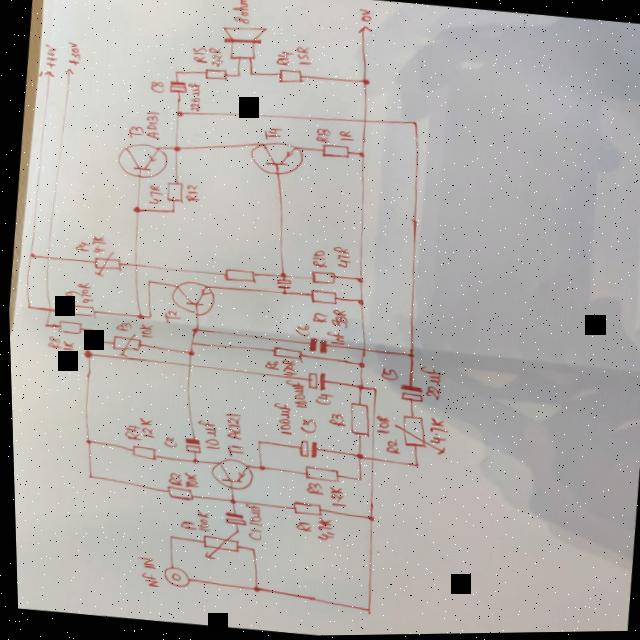capacitor: (394, 383, 422, 405), (293, 439, 316, 459), (304, 337, 327, 356), (177, 436, 201, 454), (303, 371, 324, 391), (219, 510, 245, 526), (166, 80, 186, 95), (273, 277, 290, 291)
crossover: (181, 360, 194, 369), (358, 116, 369, 125), (129, 260, 137, 268), (43, 305, 52, 312), (356, 346, 365, 353), (42, 253, 50, 260), (365, 455, 373, 462)
junction: (128, 204, 140, 216), (79, 349, 92, 360), (223, 497, 234, 507), (350, 453, 361, 462), (170, 144, 181, 153), (352, 275, 363, 284), (172, 109, 183, 118), (351, 297, 362, 306), (276, 270, 286, 279), (246, 585, 257, 593), (352, 384, 363, 392), (358, 607, 369, 615), (252, 465, 264, 472), (353, 361, 363, 369), (187, 326, 197, 334), (362, 515, 372, 523), (25, 251, 35, 259), (132, 312, 142, 320), (358, 78, 369, 85), (185, 457, 196, 464), (276, 290, 287, 297), (183, 349, 193, 356), (80, 438, 90, 445), (354, 151, 364, 158), (161, 534, 171, 541), (407, 462, 417, 469), (402, 352, 412, 359), (184, 339, 194, 346), (243, 546, 252, 553), (245, 71, 254, 78), (251, 439, 260, 446), (82, 473, 91, 480), (408, 120, 417, 127), (142, 279, 151, 286), (367, 386, 376, 393), (21, 303, 30, 310), (84, 336, 93, 343), (39, 322, 48, 329), (85, 327, 93, 334), (233, 72, 241, 79), (171, 69, 178, 76), (167, 208, 175, 214), (144, 313, 150, 319), (352, 477, 359, 482)
resistor: (386, 412, 447, 457), (196, 526, 238, 563), (88, 248, 122, 280), (342, 402, 369, 439), (107, 330, 139, 358), (298, 465, 338, 485), (59, 302, 95, 320), (220, 267, 255, 285), (286, 501, 320, 518), (305, 289, 337, 307), (126, 443, 156, 462), (318, 143, 349, 161), (275, 67, 304, 86), (268, 345, 301, 361), (161, 485, 191, 502), (162, 181, 183, 204), (52, 319, 81, 334), (306, 270, 335, 285), (201, 67, 228, 83)
terminal: (157, 565, 185, 588), (355, 25, 372, 35), (42, 69, 55, 78), (62, 66, 75, 75)
text: (128, 555, 157, 589), (191, 418, 219, 452), (416, 367, 441, 403), (266, 402, 292, 436), (277, 380, 307, 409), (423, 417, 447, 446), (219, 411, 242, 441), (140, 109, 162, 140), (228, 0, 252, 25), (328, 245, 351, 271), (311, 516, 333, 543), (238, 503, 262, 527), (40, 42, 60, 70), (184, 82, 202, 112), (325, 308, 348, 330), (322, 485, 343, 509), (73, 280, 94, 304), (63, 40, 82, 66), (292, 45, 314, 67), (306, 248, 328, 270), (293, 417, 318, 435), (205, 46, 225, 68), (122, 121, 144, 140), (143, 183, 162, 205), (134, 416, 152, 439), (190, 509, 208, 532), (189, 44, 209, 64), (144, 77, 166, 95), (375, 366, 398, 383), (180, 470, 199, 490), (323, 411, 344, 429), (87, 233, 105, 254), (273, 50, 295, 67), (221, 442, 243, 459), (180, 183, 198, 203), (370, 414, 388, 434), (379, 438, 398, 456), (311, 391, 332, 407), (323, 330, 344, 346), (119, 422, 137, 440), (159, 309, 179, 325), (306, 310, 327, 325), (42, 333, 60, 350), (163, 471, 182, 487), (301, 481, 321, 496), (335, 129, 355, 144), (278, 360, 295, 377), (60, 288, 80, 302), (262, 126, 282, 140), (291, 322, 308, 338), (313, 128, 330, 144), (356, 9, 372, 25), (243, 528, 261, 542), (71, 240, 90, 253), (175, 518, 194, 531), (289, 520, 309, 532), (158, 435, 175, 449), (259, 359, 278, 371), (135, 323, 150, 338), (112, 320, 129, 332), (58, 339, 74, 351)
transistor: (245, 139, 303, 179), (113, 141, 167, 182), (166, 278, 215, 319), (204, 456, 252, 492)
